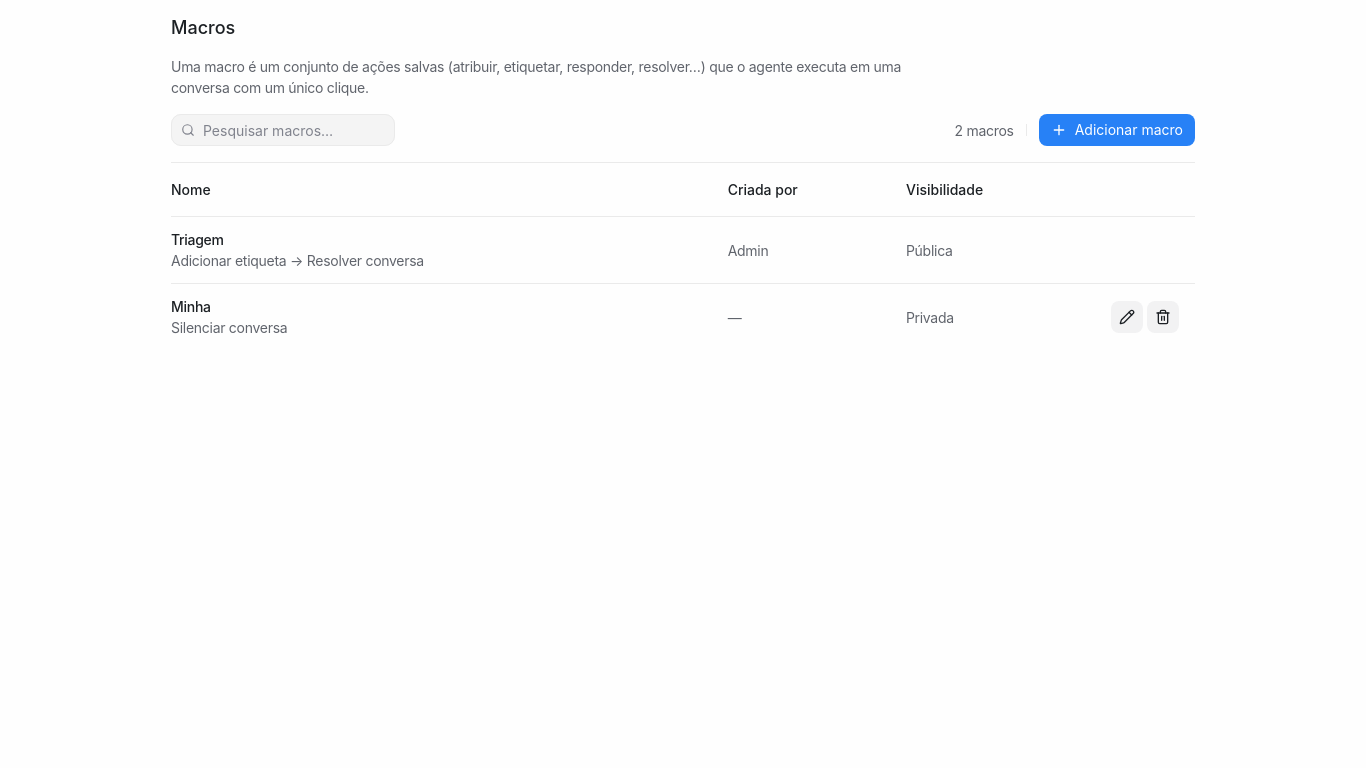
Scenario: macros settings › lets agents manage only personal macros
Expected: the text "Minha" is shown, top-left (171, 298), bottom-right (211, 315)
Click the button named "Editar Minha".
click(1127, 317)  # box top-left (1111, 301), bottom-right (1143, 333)
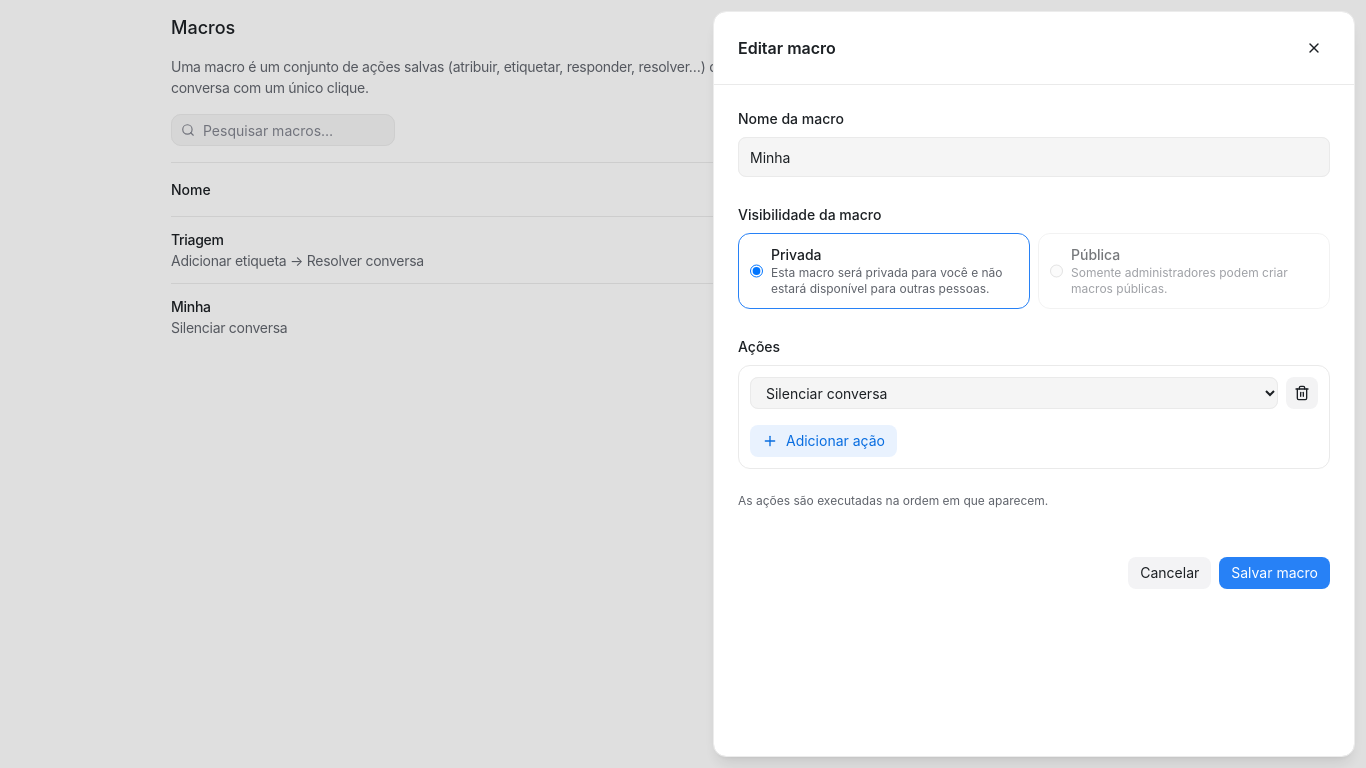
Expected: the radio button labelled "Pública Somente administradores podem criar macros públicas." is disabled, top-left (1050, 245), bottom-right (1063, 297)
Expected: the text "Somente administradores podem criar macros públicas." is shown, top-left (1071, 265), bottom-right (1318, 297)
Click the button "Cancelar".
click(1170, 573)  # box top-left (1128, 557), bottom-right (1211, 589)
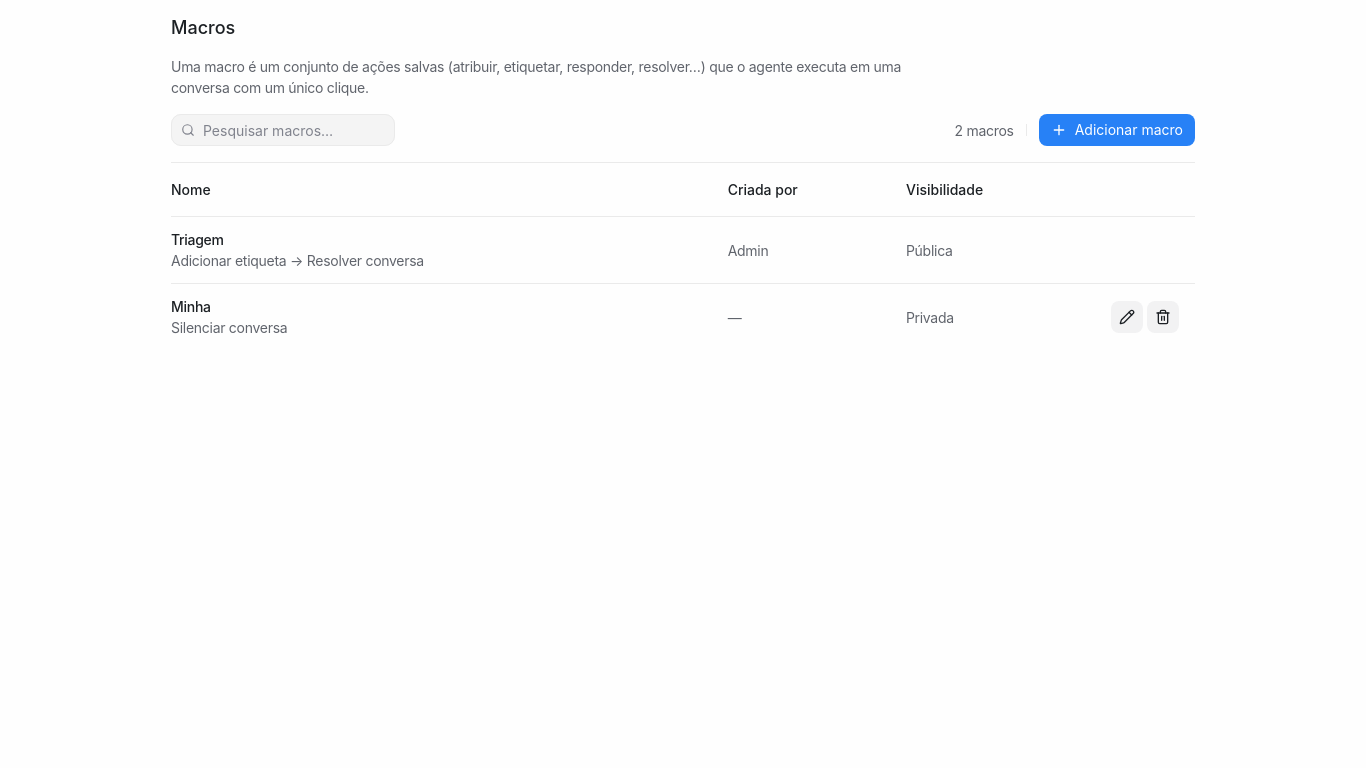
Expected: the dialog is gone
